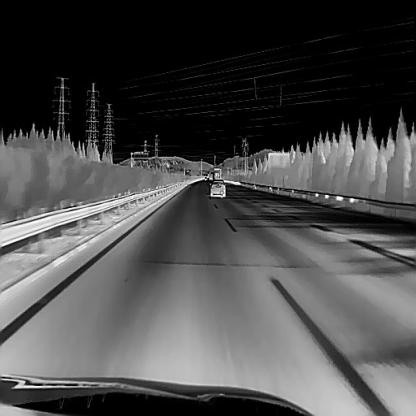car: (209, 179, 225, 196)
